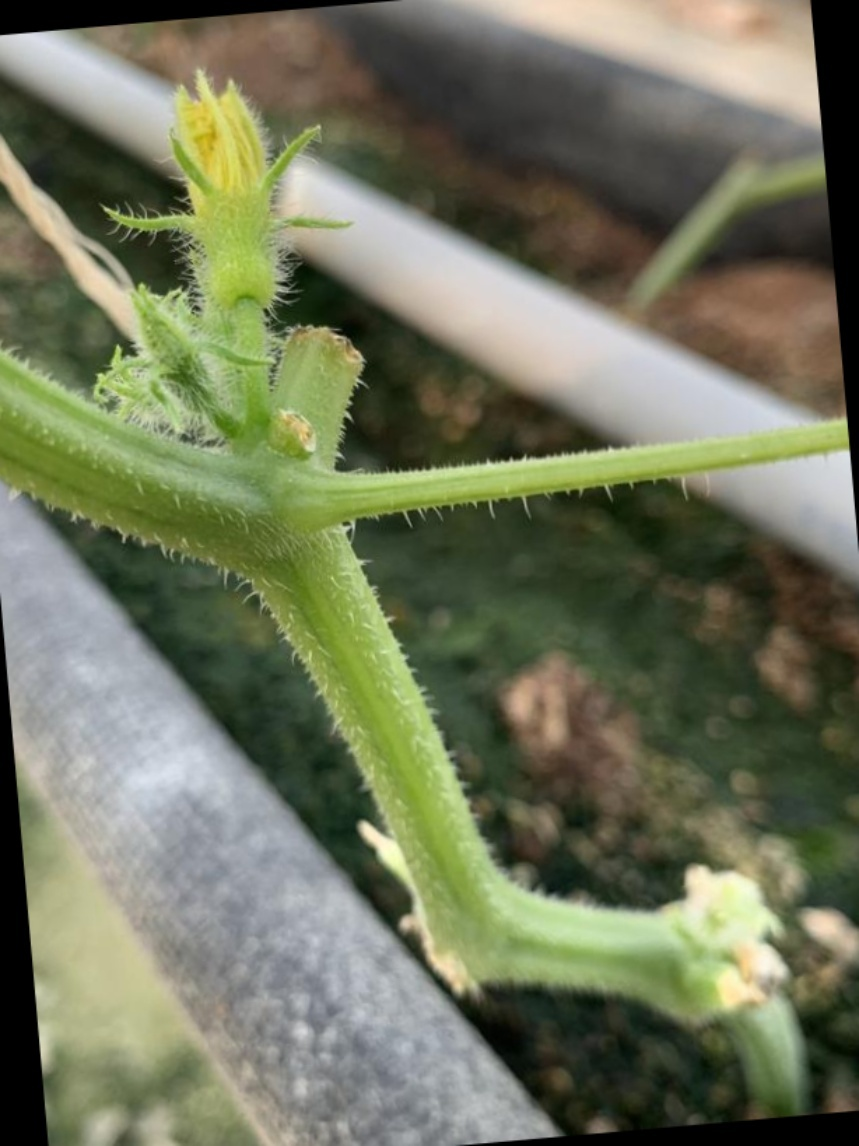bud: (140, 79, 331, 326)
